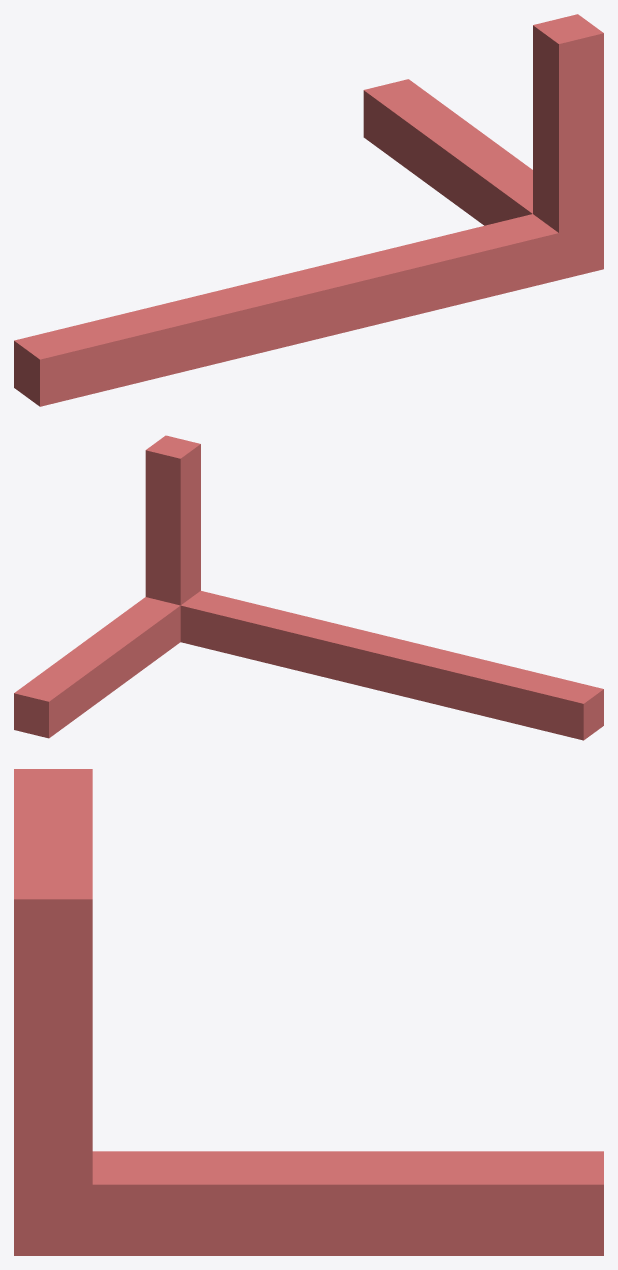
File: marker_proto.fbx
3 views of the same model, one above another, from view 1: azimuth 30°, elevation 25°; view 2: azimuth 150°, elevation 25°; view 3: azimuth 270°, elevation 25° (orthographic). The views are drawn at different scales.
Parts seen in each view (by area): view 1: TT_MarkerProto; view 2: TT_MarkerProto; view 3: TT_MarkerProto.
Boxes of the visible parts, x1,y1,x2,y2 form: TT_MarkerProto: [14, 14, 603, 406]; TT_MarkerProto: [14, 435, 603, 740]; TT_MarkerProto: [14, 769, 603, 1255].
Bounding box in the file's own units: 1000 × 600 × 400.
